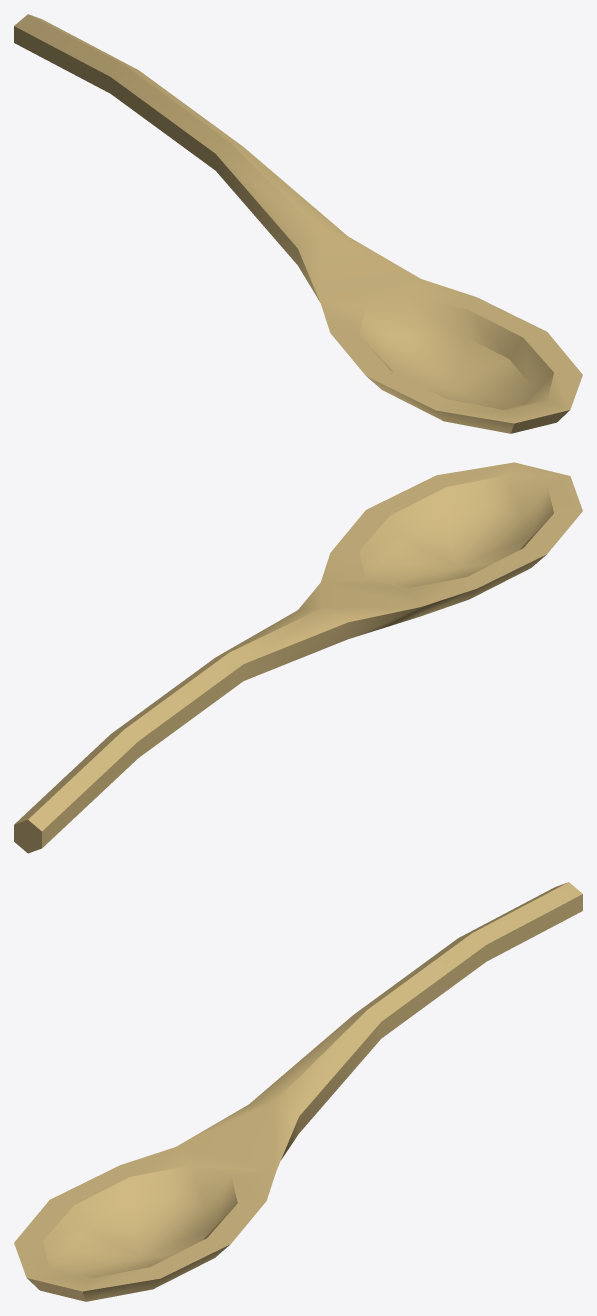
File: EA_Items_House_spoon_wooden_03.glb
3 views of the same model, one above another, from view 1: azimuth 30°, elevation 25°; view 2: azimuth 150°, elevation 25°; view 3: azimuth 330°, elevation 25° (orthographic).
Visible parts, largest first — view 1: EA_Items_House_spoon_wooden_03; view 2: EA_Items_House_spoon_wooden_03; view 3: EA_Items_House_spoon_wooden_03.
Boxes of the visible parts, box(x1,y1,x2,y2) form: EA_Items_House_spoon_wooden_03: box(14, 14, 582, 433); EA_Items_House_spoon_wooden_03: box(14, 462, 582, 853); EA_Items_House_spoon_wooden_03: box(14, 882, 582, 1301).
Size of the model in its own units: 0.0681 by 0.0295 by 0.3349.
Materials: 1 (1 with a texture image).
